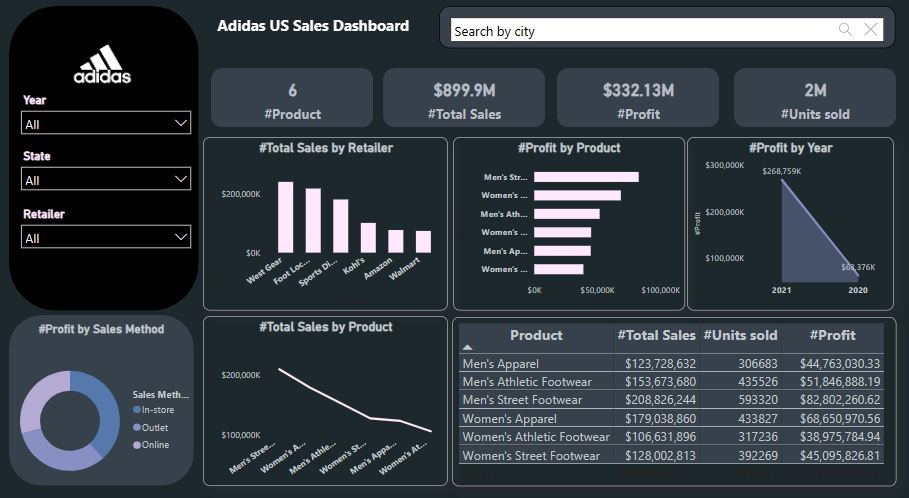

What the dashboard file says about the page in this screenshot:
{"tool":"powerbi","page":{"name":"Page 1","canvas":[1280,720],"ordinal":0},"visuals":[{"type":"shape","box":[292.9,100,230,84.3],"z":0},{"type":"card","fields":{"Values":["Measurs.#Qunatity"]},"box":[308.6,105.7,200,72.9],"z":1000},{"type":"shape","box":[1034.3,100,230,84.3],"z":2000},{"type":"shape","box":[784.3,100,230,84.3],"z":3000},{"type":"shape","box":[537.1,100,230,84.3],"z":4000},{"type":"card","fields":{"Values":["Measurs.#Total Sales"]},"box":[552.9,105.7,200,72.9],"z":5000},{"type":"card","fields":{"Values":["Measurs.#Profit"]},"box":[800,105.7,200,72.9],"z":6000},{"type":"card","fields":{"Values":["Measurs.#Units sold"]},"box":[1050,105.7,200,72.9],"z":7000},{"type":"shape","box":[7.2,450.7,262.1,241.9],"z":8000},{"type":"donutChart","fields":{"Y":["Measurs.#Profit"],"Category":["Data Sales Adidas.Sales Method"]},"box":[0,460.8,276.5,259.2],"z":9000},{"type":"columnChart","fields":{"Category":["Data Sales Adidas.Retailer"],"Y":["Measurs.#Total Sales"]},"box":[281.4,198.6,347.1,245.7],"z":10000},{"type":"clusteredBarChart","fields":{"Category":["Data Sales Adidas.Product"],"Y":["Measurs.#Profit"]},"box":[635.7,198.6,328.6,245.7],"z":11000},{"type":"areaChart","fields":{"Y":["Measurs.#Profit"],"Category":["Data Sales Adidas.Year"]},"box":[968.6,198.6,292.9,245.7],"z":12000},{"type":"lineChart","fields":{"Category":["Data Sales Adidas.Product"],"Y":["Measurs.#Total Sales"]},"box":[281.4,451.4,347.1,241.4],"z":13000},{"type":"tableEx","fields":{"Values":["Data Sales Adidas.Product","Measurs.#Total Sales","Measurs.#Units sold","Measurs.#Profit"]},"box":[634.3,452.9,630,240],"z":14000},{"type":"shape","box":[7.2,13,269.3,432],"z":15000},{"type":"image","box":[50.4,13,175.7,162.7],"z":16000},{"type":"slicer","fields":{"Values":["Data Sales Adidas.Year"]},"box":[14.3,130,261.4,68.6],"z":17000},{"type":"slicer","fields":{"Values":["Data Sales Adidas.State"]},"box":[14.3,210,261.4,68.6],"z":18000},{"type":"slicer","fields":{"Values":["Data Sales Adidas.Retailer"]},"box":[14.3,291.4,261.4,68.6],"z":19000},{"type":"textSearchSlicerF85E2E78BE4A4D7D9F99ED75B5D71C85","fields":{"fields":["Data Sales Adidas.City"]},"box":[617.1,12.9,647.1,60],"z":20000},{"type":"textbox","box":[275,20.2,326.9,46.1],"z":21000}]}

Visuals, with their boxes in screenshot pixels (x1, y1, x2, y2), scaled from the page's 1280x720 canvas onto the 909x498 screenshot:
shape: crop(208, 69, 371, 127)
card - Measurs.#Qunatity: crop(219, 73, 361, 124)
shape: crop(735, 69, 898, 127)
shape: crop(557, 69, 720, 127)
shape: crop(381, 69, 545, 127)
card - Measurs.#Total Sales: crop(393, 73, 535, 124)
card - Measurs.#Profit: crop(568, 73, 710, 124)
card - Measurs.#Units sold: crop(746, 73, 888, 124)
shape: crop(5, 312, 191, 479)
donutChart - Measurs.#Profit x Data Sales Adidas.Sales Method: crop(0, 319, 196, 497)
columnChart - Data Sales Adidas.Retailer x Measurs.#Total Sales: crop(200, 137, 446, 307)
clusteredBarChart - Data Sales Adidas.Product x Measurs.#Profit: crop(451, 137, 685, 307)
areaChart - Measurs.#Profit x Data Sales Adidas.Year: crop(688, 137, 896, 307)
lineChart - Data Sales Adidas.Product x Measurs.#Total Sales: crop(200, 312, 446, 479)
tableEx - Data Sales Adidas.Product x Measurs.#Total Sales: crop(450, 313, 898, 479)
shape: crop(5, 9, 196, 308)
image: crop(36, 9, 161, 122)
slicer - Data Sales Adidas.Year: crop(10, 90, 196, 137)
slicer - Data Sales Adidas.State: crop(10, 145, 196, 193)
slicer - Data Sales Adidas.Retailer: crop(10, 202, 196, 249)
textSearchSlicerF85E2E78BE4A4D7D9F99ED75B5D71C85 - Data Sales Adidas.City: crop(438, 9, 898, 50)
textbox: crop(195, 14, 427, 46)
